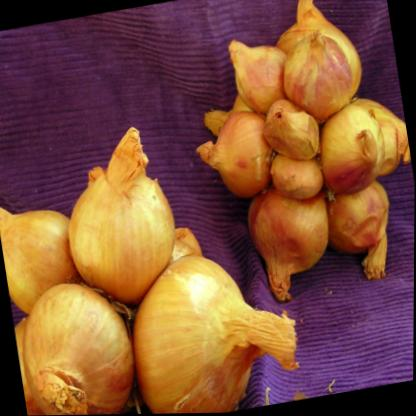--: (111, 240, 306, 415), (45, 123, 216, 312), (7, 261, 161, 416), (256, 4, 381, 141), (193, 99, 290, 216)
